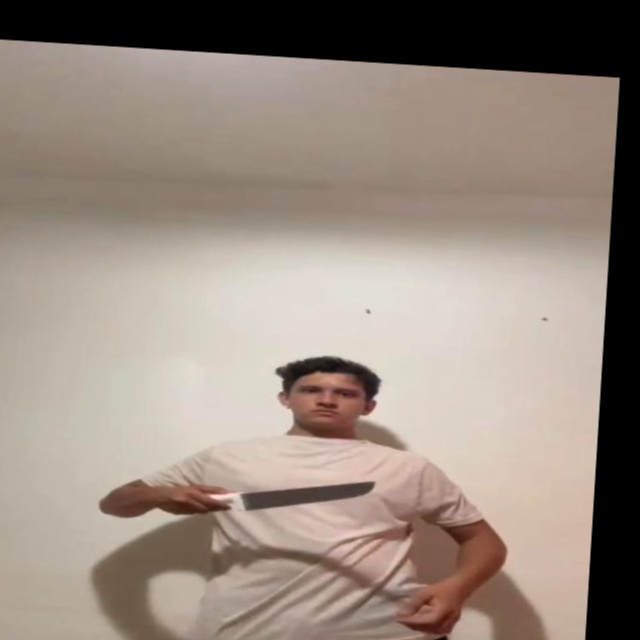Sharp-Object: (234, 473, 376, 514)
